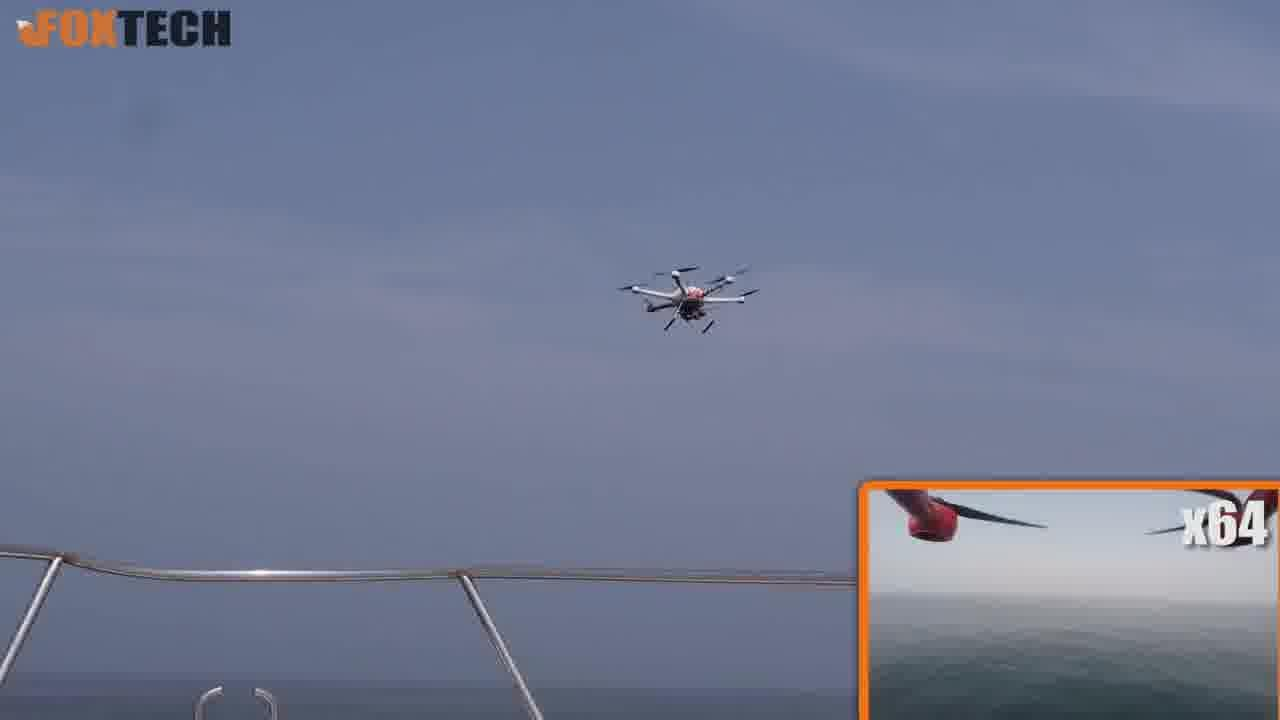drone: (612, 252, 760, 346)
